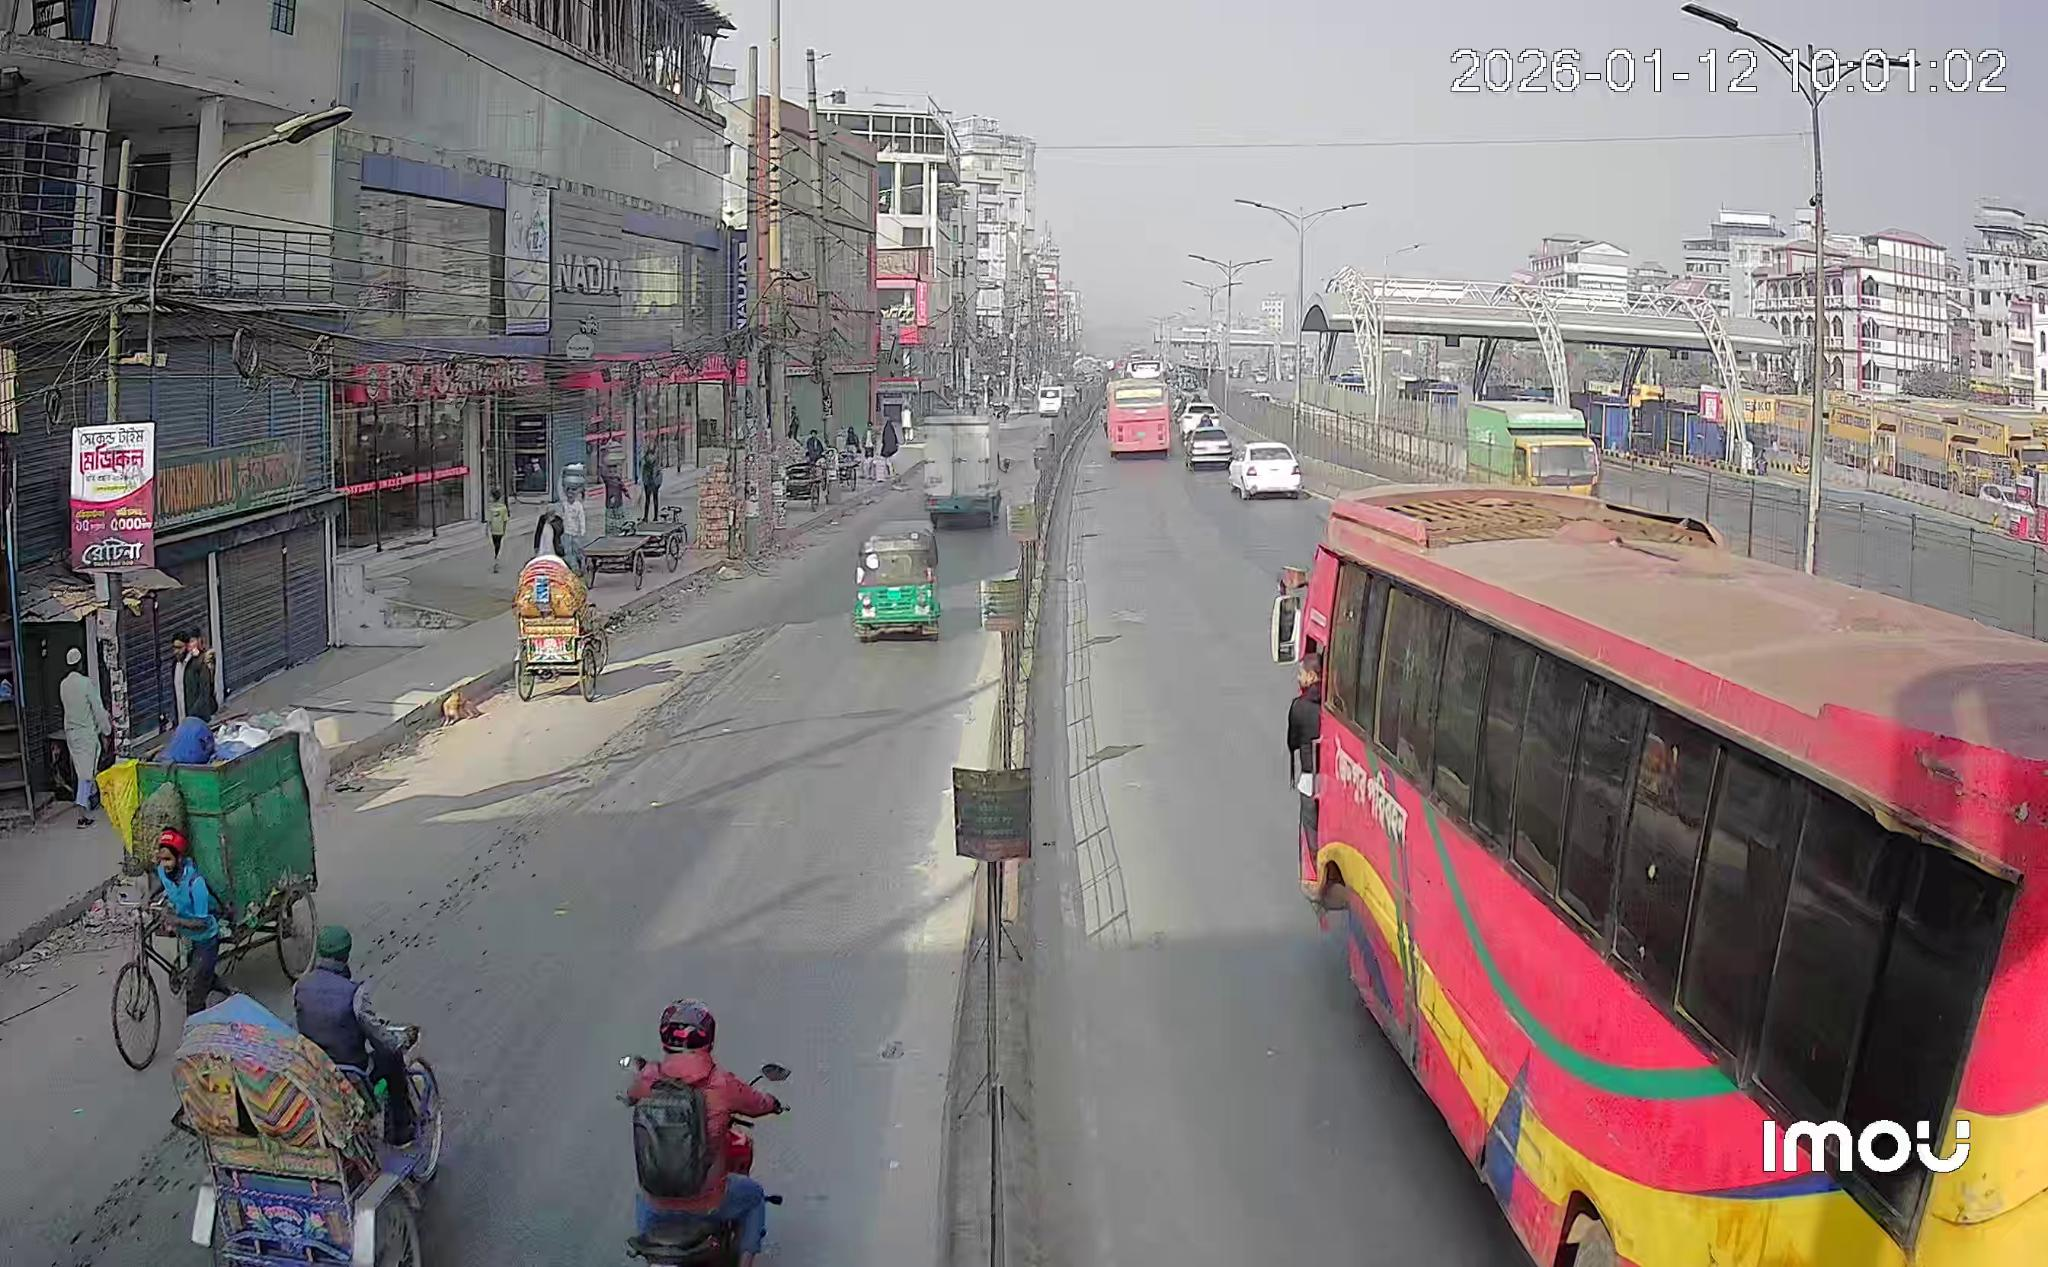Bus: (1262, 484, 2047, 1267), (1103, 372, 1182, 461)
CNG-Tempo: (851, 521, 942, 641)
Cycle Rickshaw: (173, 926, 443, 1267), (511, 554, 607, 699)
Motorcycle: (622, 999, 788, 1267)
